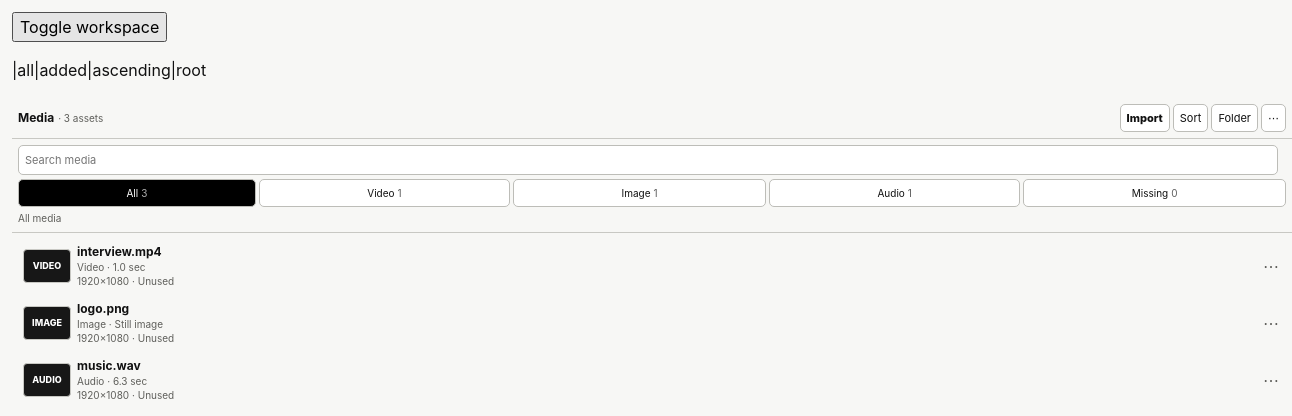
Test: Media Library V2 — durable folders › asks the server once on open and shows what came back
Click the button with aria-label "Folder, All media selected".
click(1235, 118)  # box [1211,104,1258,132]
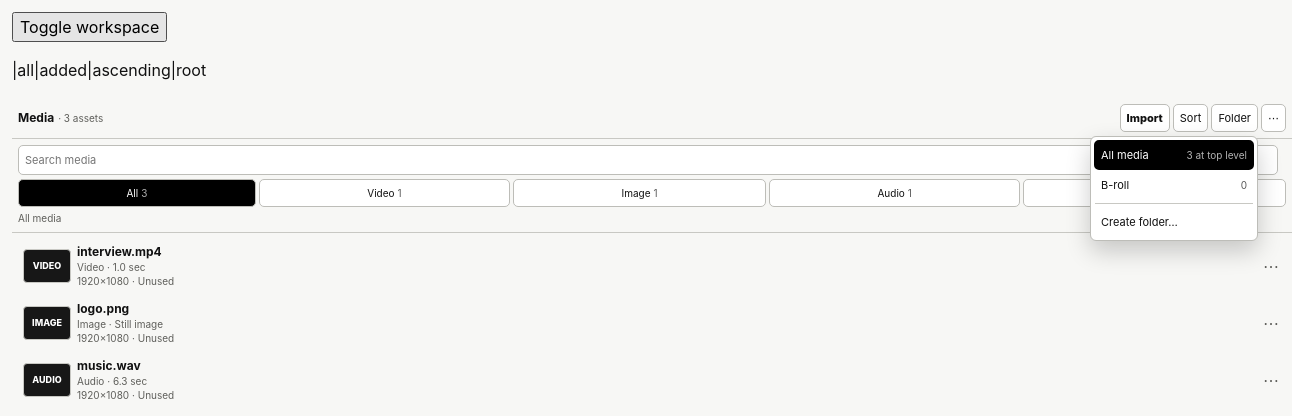
Expected: the menu item "B-roll 0" is shown, [1095,171,1253,199]
